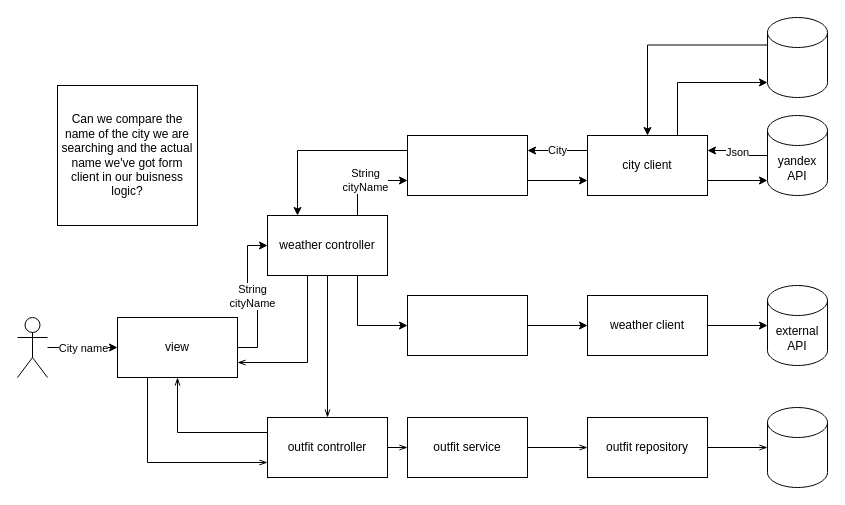
This 845x505 diagram has some shape labels left out. Each missing label, with the centre of its shape:
"Actor" goes at (32,347).
"city service" goes at (467,165).
"DB" goes at (797,447).
"txt file" goes at (797,57).
"weather service" goes at (467,325).
